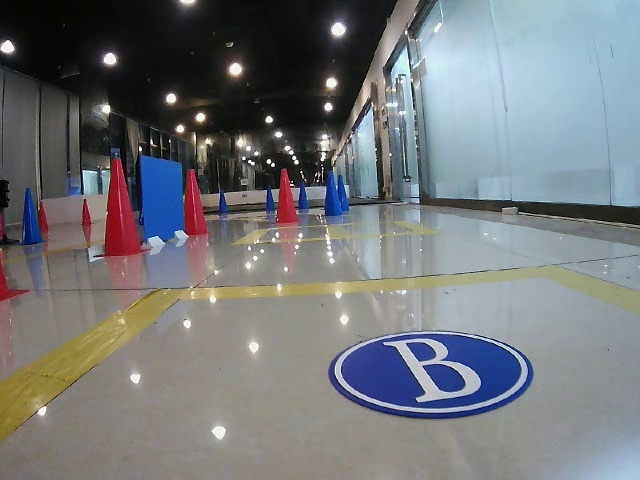B: (329, 333, 529, 417)
